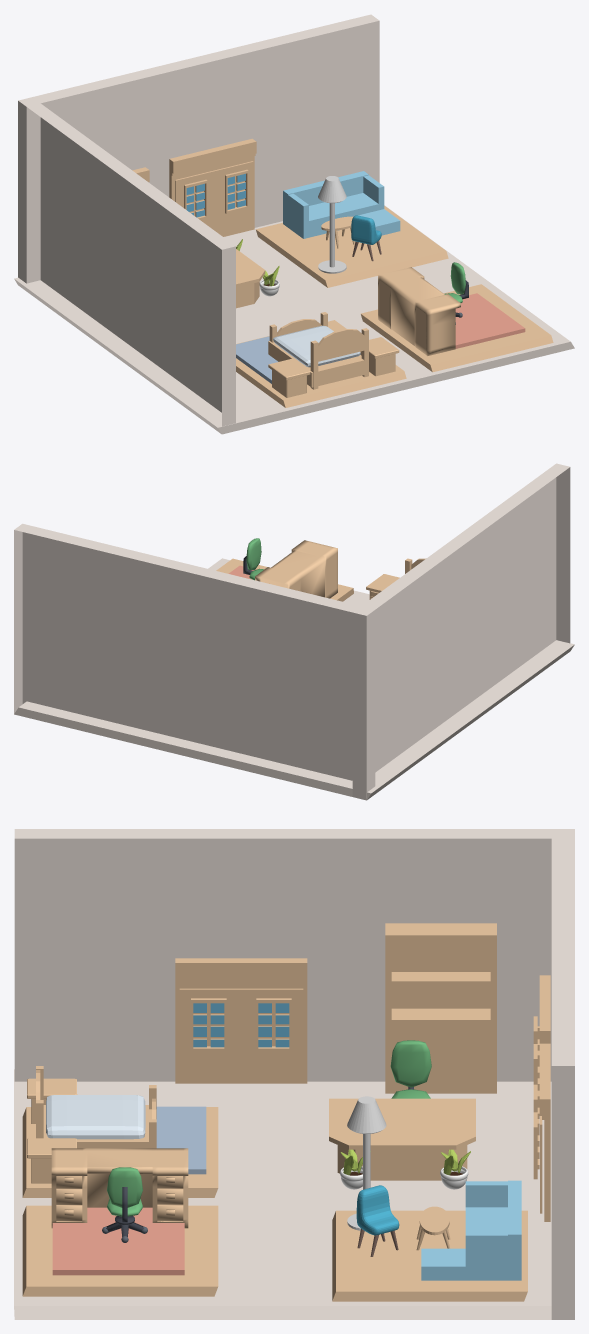
File: Interior tienda5.fbx
3 renders of one model, top to bottom at view 1: azimuth 30°, elevation 25°; view 2: azimuth 150°, elevation 25°; view 3: azimuth 270°, elevation 25°, orthographic. The views are drawn at different scales.
Visible parts, largest first — view 1: Cube, Piso.002, Cube.002, Piso.001, Plane.019, Plane.007, Piso, Plane.008, Plane.018, Plane.006, Plane.013, Plane.011 (+10 smaller); view 2: Cube, Cube.002, Piso.001; view 3: Cube, Plane.009, Piso.002, Plane.010, Piso.001, Cube.002, Plane.001, Plane.018, Plane.019, Plane, Plane.014, Plane.002 (+15 smaller).
Part boxes in pixels (x1=…): Cube: x1=14, y1=14, x2=574, y2=434; Piso.002: x1=256, y1=206, x2=448, y2=287; Cube.002: x1=378, y1=267, x2=460, y2=355; Piso.001: x1=361, y1=284, x2=553, y2=372; Plane.019: x1=283, y1=171, x2=400, y2=238; Plane.007: x1=175, y1=161, x2=253, y2=234; Piso: x1=236, y1=320, x2=406, y2=407; Plane.008: x1=169, y1=138, x2=256, y2=236; Plane.018: x1=455, y1=293, x2=525, y2=348; Plane.006: x1=184, y1=169, x2=248, y2=220; Plane.013: x1=277, y1=319, x2=364, y2=361; Plane.011: x1=268, y1=341, x2=364, y2=387; Cube: x1=14, y1=463, x2=574, y2=800; Cube.002: x1=255, y1=540, x2=337, y2=598; Piso.001: x1=216, y1=558, x2=353, y2=601; Cube: x1=14, y1=829, x2=574, y2=1319; Plane.009: x1=385, y1=923, x2=496, y2=1093; Piso.002: x1=332, y1=1210, x2=527, y2=1301; Plane.010: x1=329, y1=1098, x2=475, y2=1180; Piso.001: x1=22, y1=1205, x2=218, y2=1296; Cube.002: x1=51, y1=1148, x2=188, y2=1228; Plane.001: x1=179, y1=988, x2=303, y2=1078; Plane.018: x1=52, y1=1207, x2=184, y2=1275; Plane.019: x1=421, y1=1180, x2=521, y2=1280; Plane: x1=175, y1=958, x2=307, y2=1083; Plane.014: x1=46, y1=1095, x2=145, y2=1139; Plane.002: x1=191, y1=998, x2=291, y2=1051.
Size of the model in its own units: 2024 by 1000 by 2002.
